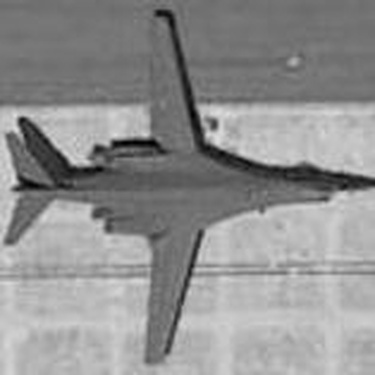airplane: (5, 5, 373, 370)
